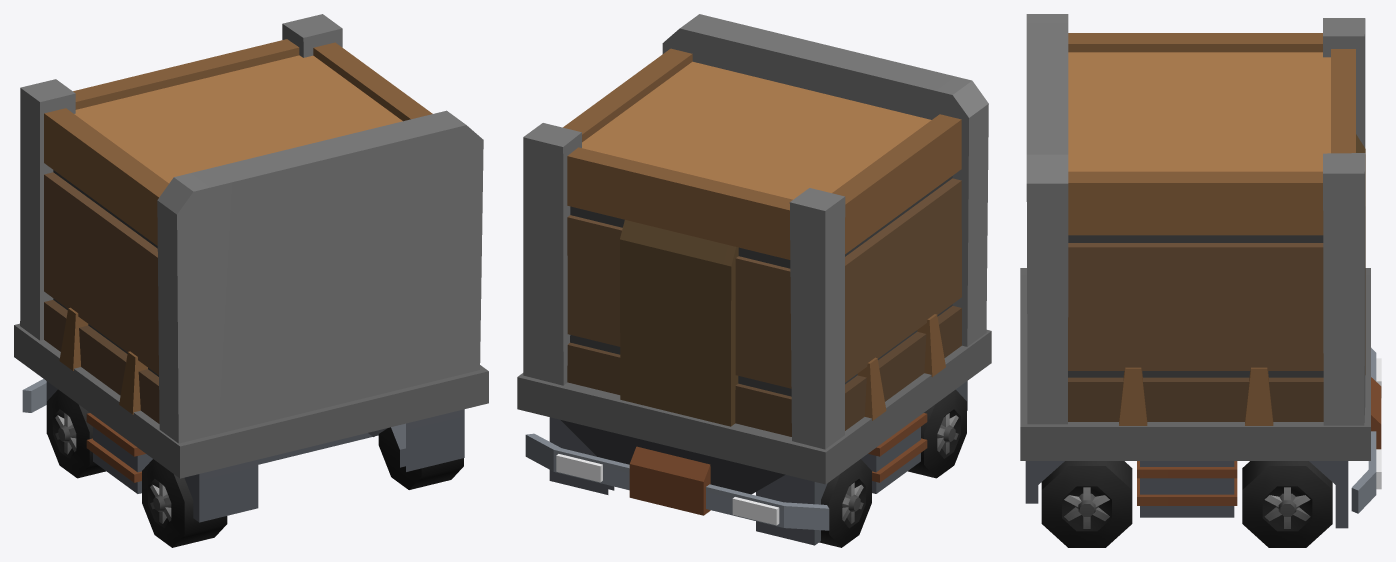
Rendered from cargo_01_D_2.fbx.
The picture shows the model from 3 angles, left to right: view 1: azimuth 30°, elevation 25°; view 2: azimuth 150°, elevation 25°; view 3: azimuth 270°, elevation 25°; orthographic projection. The views are drawn at different scales.
Parts seen in each view (by area): view 1: cargo_01_D_2; view 2: cargo_01_D_2; view 3: cargo_01_D_2.
Part boxes in pixels (bbox=[...]): cargo_01_D_2: bbox=[14, 14, 488, 547]; cargo_01_D_2: bbox=[517, 14, 991, 547]; cargo_01_D_2: bbox=[1020, 14, 1381, 547].
Bounding box in the file's own units: 13.89 × 15.87 × 13.29.
